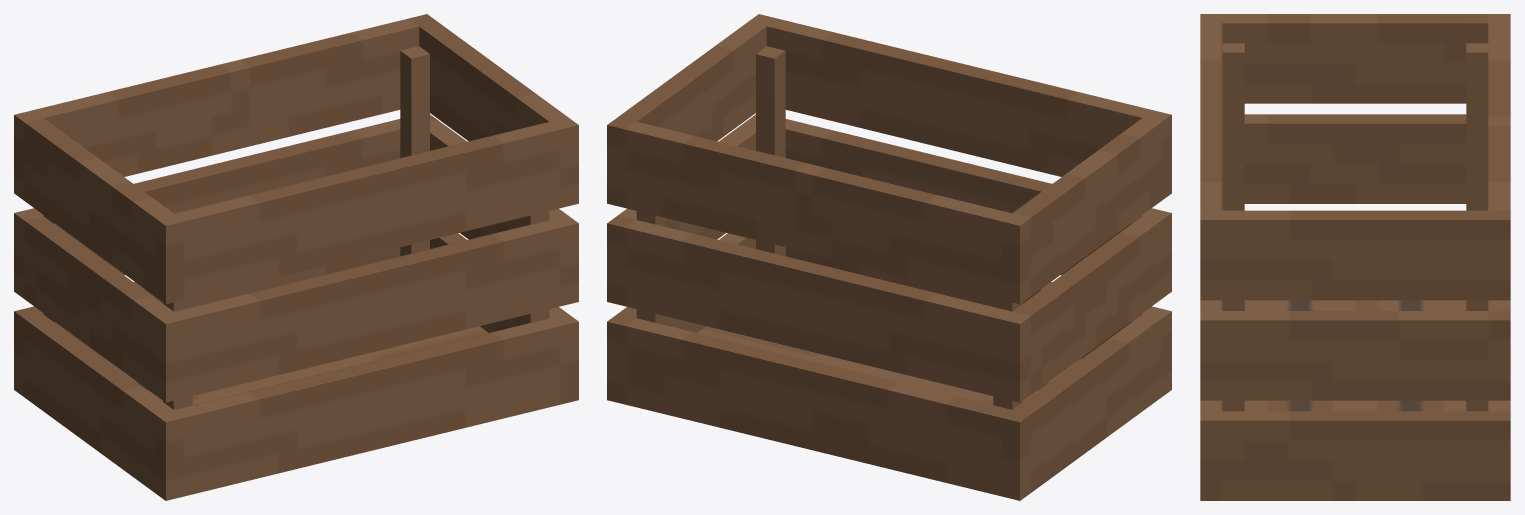
Rendered from Crate05.gltf.
3 views of the same model, side by side, from view 1: azimuth 30°, elevation 25°; view 2: azimuth 150°, elevation 25°; view 3: azimuth 270°, elevation 25° (orthographic). The views are drawn at different scales.
Visible parts, largest first — view 1: Crate05.001; view 2: Crate05.001; view 3: Crate05.001.
Part boxes in pixels (x1,y1,x2,y2): Crate05.001: (14,14,578,500); Crate05.001: (607,14,1171,500); Crate05.001: (1200,14,1510,500).
Bounding box in the file's own units: 0.6192 × 0.3941 × 0.3941.
1 material, 1 textured.
